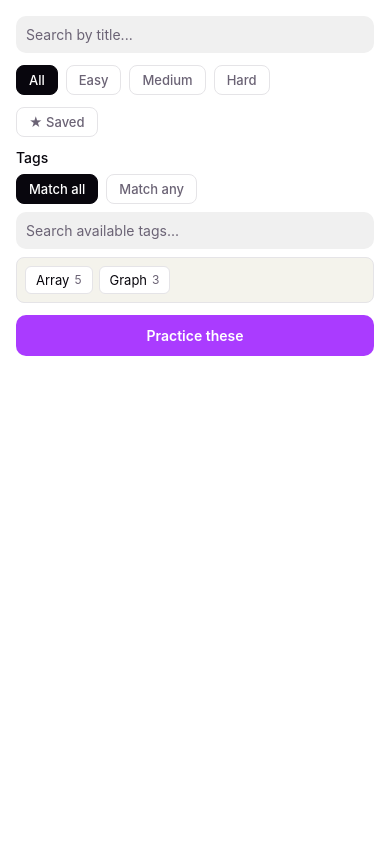
Test: adding a tag from the options sends it to the API
The width and height of the screenshot is (390, 844).
Click the button with test id "search-tag-option-Array": click(59, 280) [25,266,92,294]
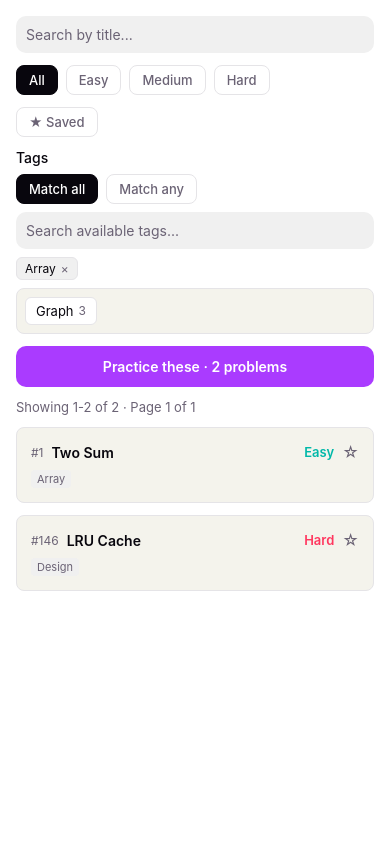
Expected: the button with test id "search-tag-selected-Array" is shown, [16,257,78,280]
